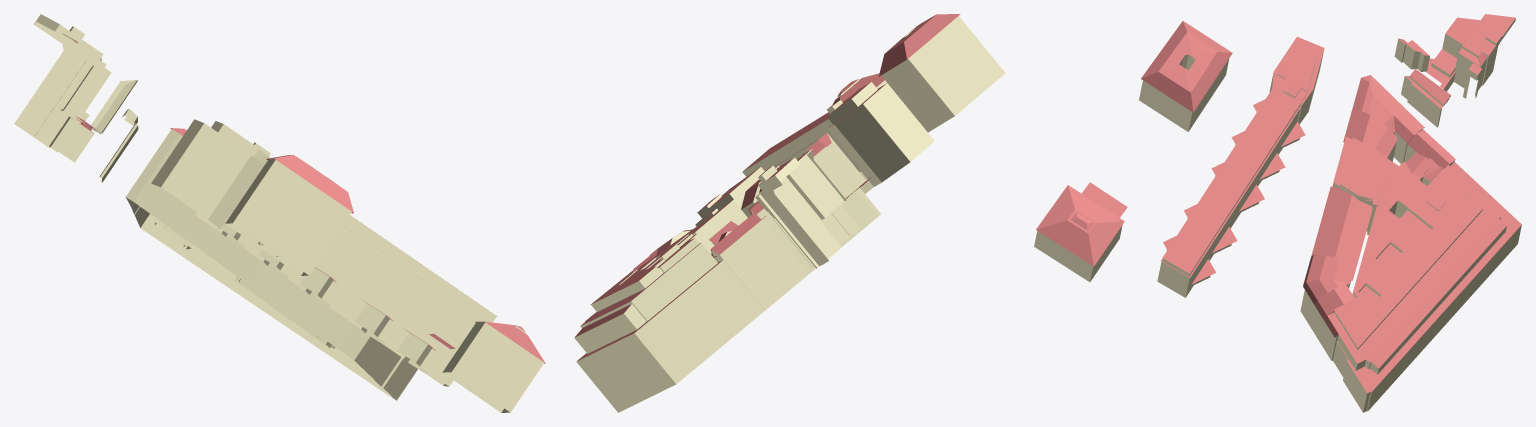
The model's file is tile_063.glb.
3 renders of one model, left to right at view 1: azimuth 30°, elevation 25°; view 2: azimuth 150°, elevation 25°; view 3: azimuth 270°, elevation 25°, orthographic. The views are drawn at different scales.
Visible parts, largest first — view 1: Batched_Building_ID_A6F0EE36-81A9-4DC9-8F21-EC9F6B6ACDF3, Batched_Building_ID_D89676D5-B550-486D-87A7-1F85F05E39FF; view 2: Batched_Building_ID_A6F0EE36-81A9-4DC9-8F21-EC9F6B6ACDF3, Batched_Building_ID_D89676D5-B550-486D-87A7-1F85F05E39FF; view 3: Batched_Building_ID_D89676D5-B550-486D-87A7-1F85F05E39FF, Batched_Building_ID_A6F0EE36-81A9-4DC9-8F21-EC9F6B6ACDF3.
Boxes of the visible parts, bbox=[...] form: Batched_Building_ID_A6F0EE36-81A9-4DC9-8F21-EC9F6B6ACDF3: bbox=[14, 14, 543, 412]; Batched_Building_ID_D89676D5-B550-486D-87A7-1F85F05E39FF: bbox=[72, 40, 545, 363]; Batched_Building_ID_A6F0EE36-81A9-4DC9-8F21-EC9F6B6ACDF3: bbox=[574, 16, 1005, 412]; Batched_Building_ID_D89676D5-B550-486D-87A7-1F85F05E39FF: bbox=[575, 14, 960, 361]; Batched_Building_ID_D89676D5-B550-486D-87A7-1F85F05E39FF: bbox=[1036, 14, 1521, 393]; Batched_Building_ID_A6F0EE36-81A9-4DC9-8F21-EC9F6B6ACDF3: bbox=[1034, 18, 1521, 412].
Bounding box in the file's own units: 126 × 136 × 200.
